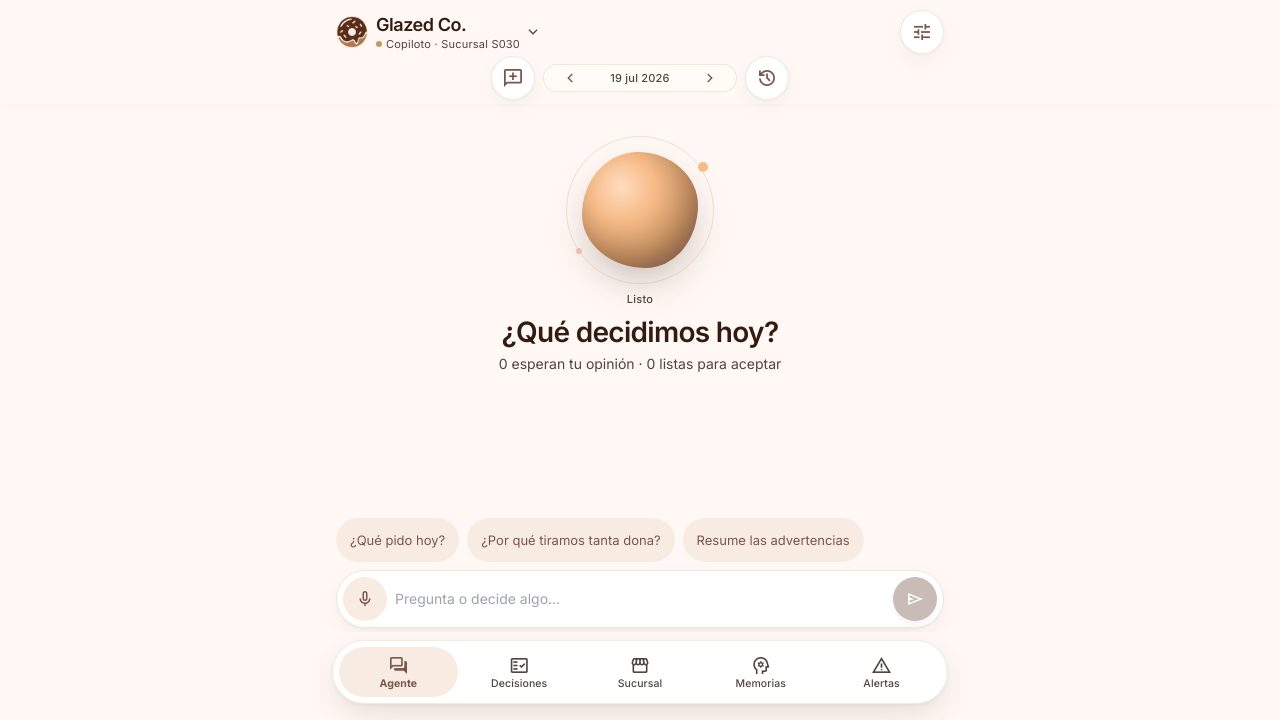
it: Conversaciones (Agente) › shows the first user message as preview, fetched on open
Click the button named "Conversaciones anteriores": [767, 78] box [745,56,789,100]
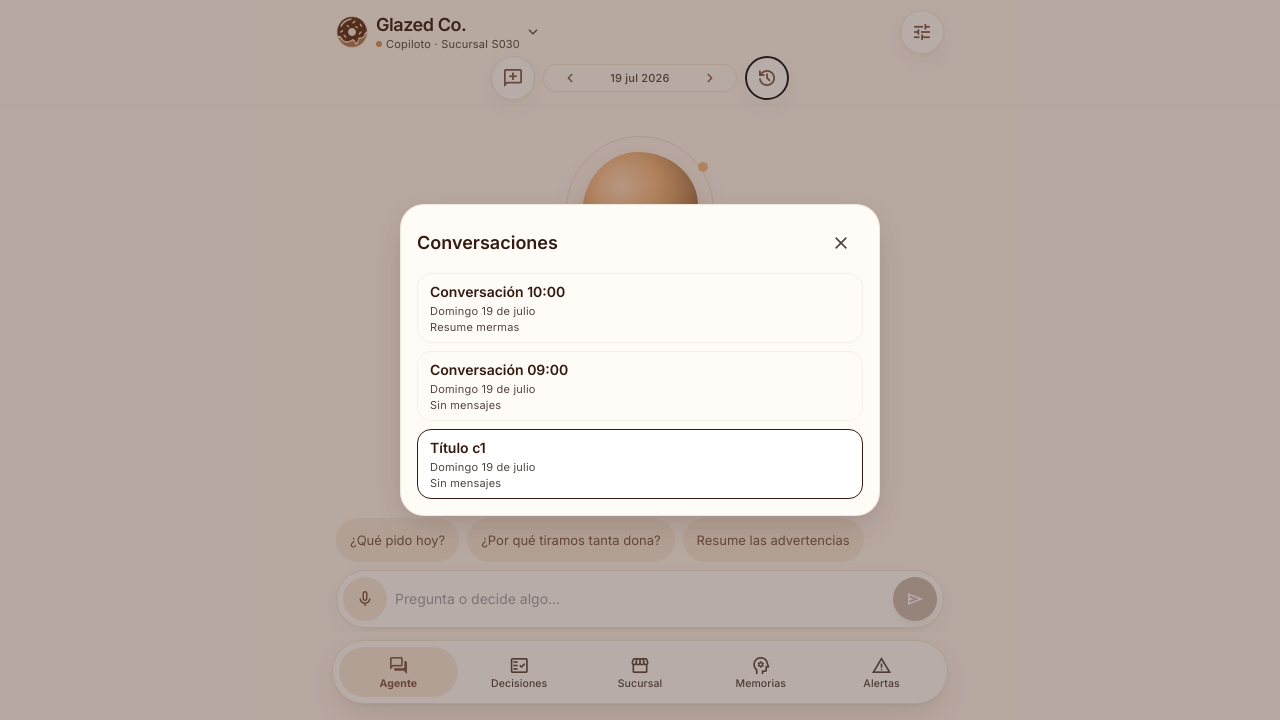
Expected: the text "Resume mermas" is shown, [430,320,520,334]
